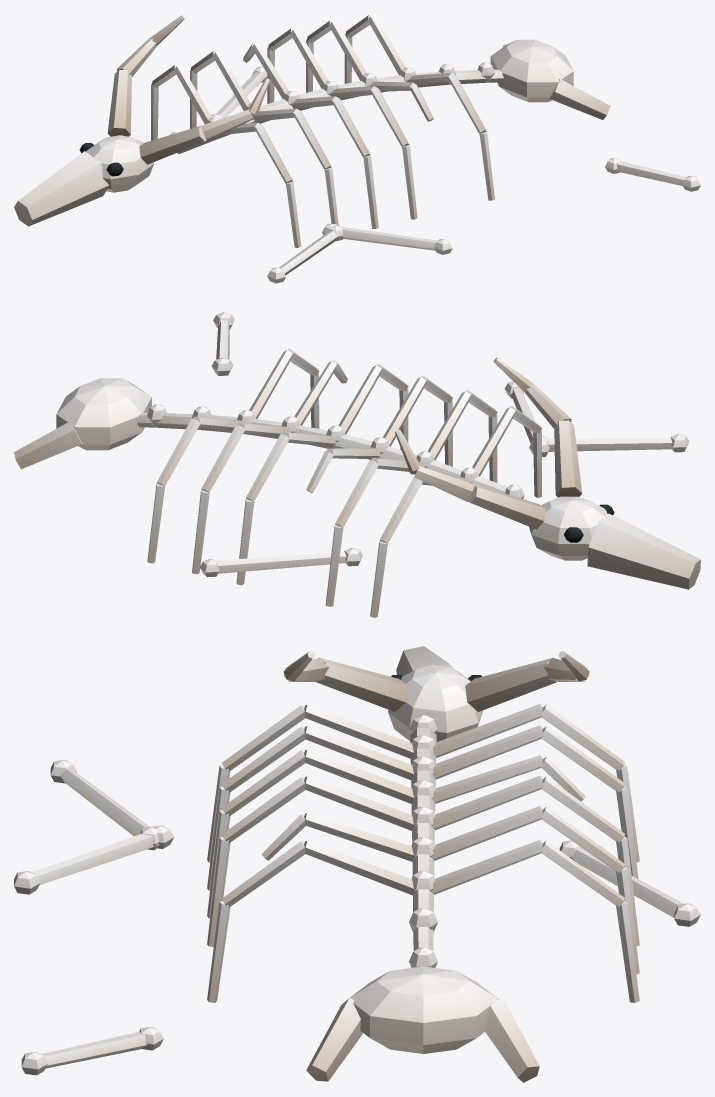
Rendered from herd_bones.glb.
3 views of the same model, one above another, from view 1: azimuth 30°, elevation 25°; view 2: azimuth 150°, elevation 25°; view 3: azimuth 270°, elevation 25° (orthographic). The views are drawn at different scales.
Parts seen in each view (by area): view 1: herd_bones; view 2: herd_bones; view 3: herd_bones.
Boxes of the visible parts, x1,y1,x2,y2 form: herd_bones: (14, 14, 700, 283); herd_bones: (14, 312, 700, 617); herd_bones: (14, 646, 700, 1082).
Bounding box in the file's own units: 7.2 × 1.78 × 5.2.
1 material, 1 textured.
